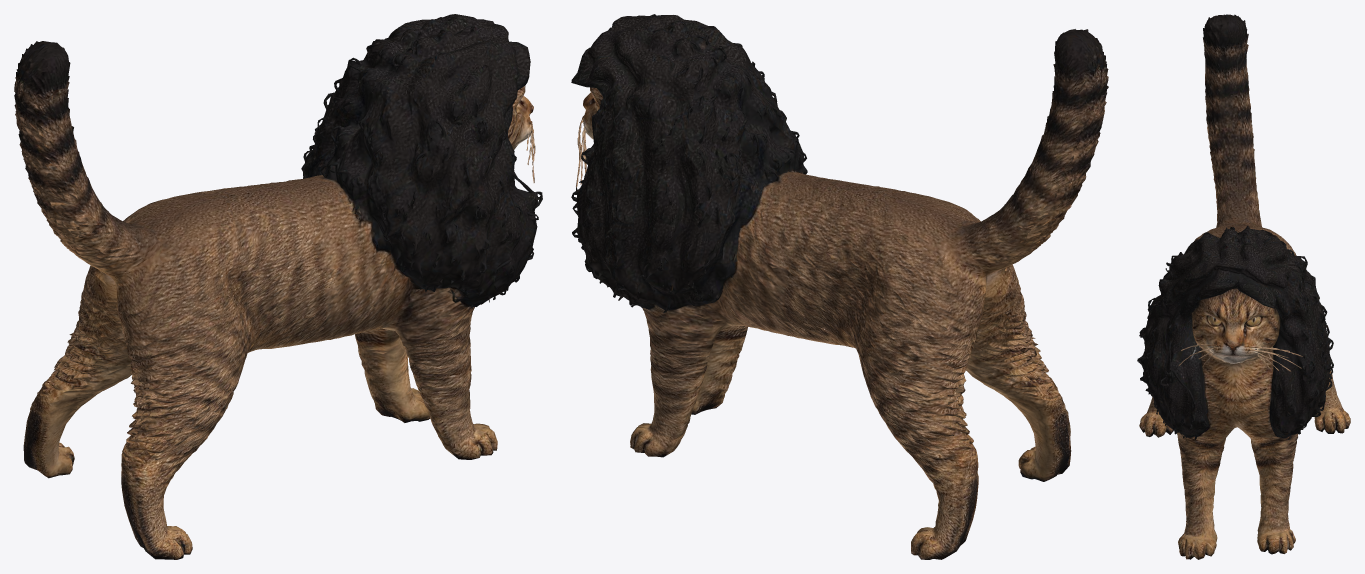
File: CUCUWIG.glb
3 renders of one model, left to right at view 1: azimuth 30°, elevation 25°; view 2: azimuth 150°, elevation 25°; view 3: azimuth 270°, elevation 25°, orthographic. The views are drawn at different scales.
Visible parts, largest first — view 1: tripo_node_5796671d-9909-41a9-a9ee-f7d0ed81c408; view 2: tripo_node_5796671d-9909-41a9-a9ee-f7d0ed81c408; view 3: tripo_node_5796671d-9909-41a9-a9ee-f7d0ed81c408.
Part boxes in pixels (left/top/right/bottom): tripo_node_5796671d-9909-41a9-a9ee-f7d0ed81c408: left=14, top=14, right=542, bottom=559; tripo_node_5796671d-9909-41a9-a9ee-f7d0ed81c408: left=571, top=14, right=1108, bottom=559; tripo_node_5796671d-9909-41a9-a9ee-f7d0ed81c408: left=1137, top=14, right=1350, bottom=559.
Bounding box in the file's own units: 1.1 × 0.9983 × 0.5005.
1 material, 1 textured.
